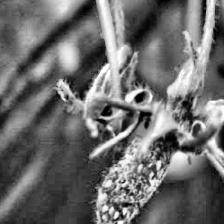Gray Mold: (94, 45, 224, 224)
